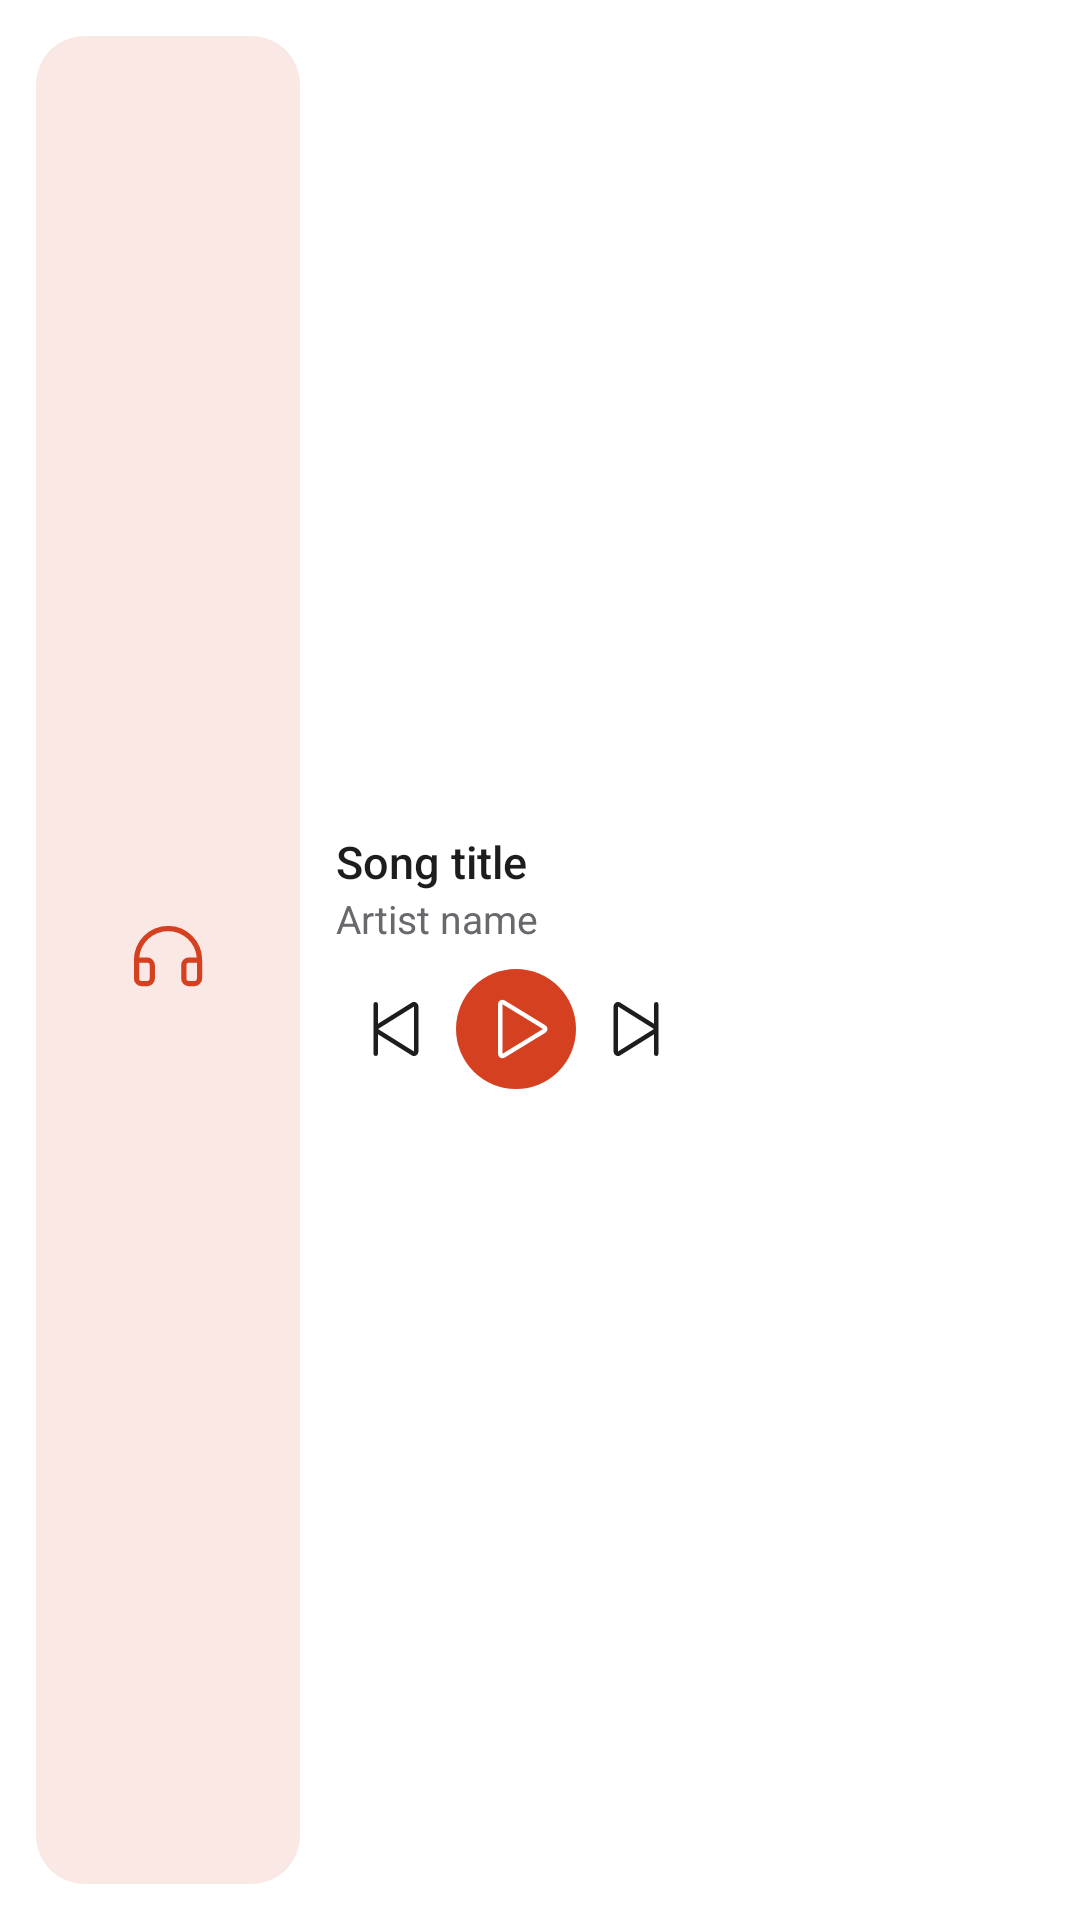

Named icons in this screenshot (1080*1920) and their bounding boxes, (x1, y1, x2, y2):
widget app glyph: (134, 926, 203, 987)
widget glyph next: (613, 1002, 659, 1056)
widget glyph play: (456, 969, 576, 1089)
widget glyph previous: (373, 1002, 419, 1056)
